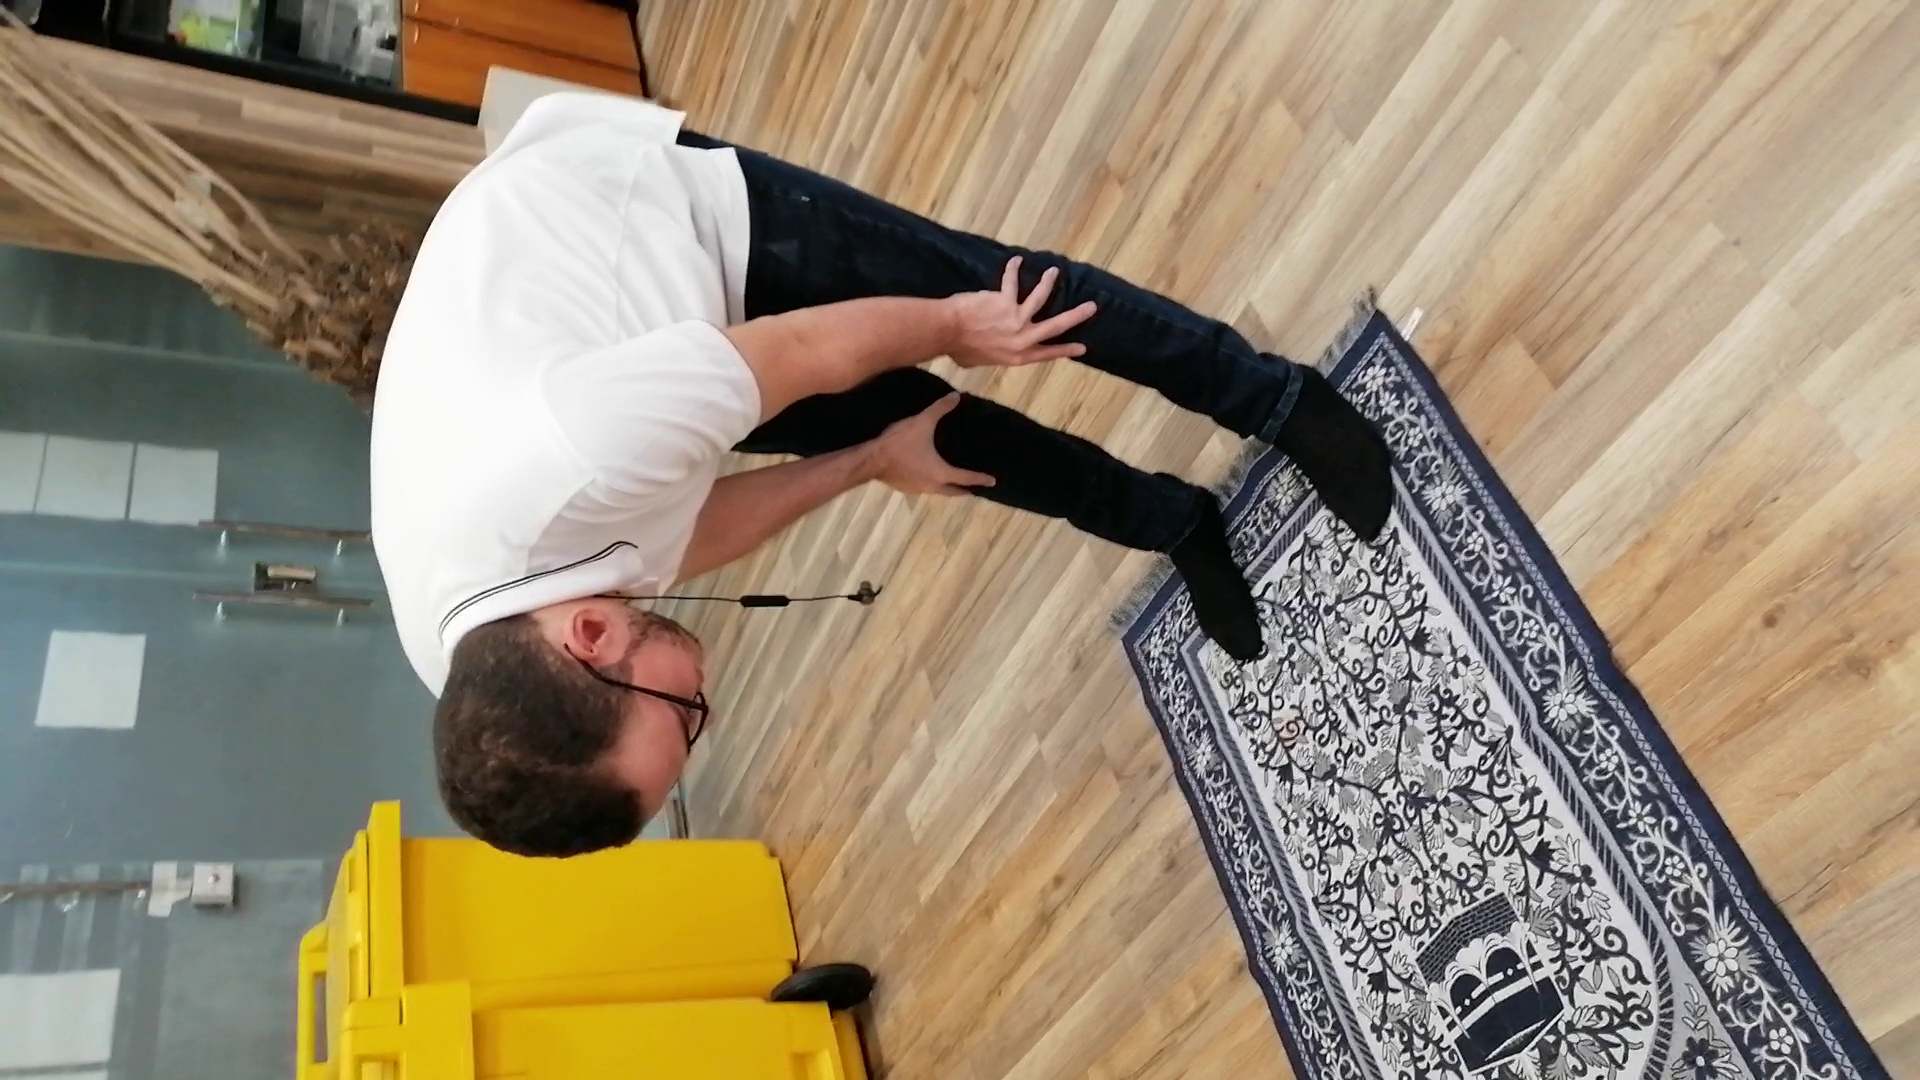ruku: (132, 65, 1540, 901)
